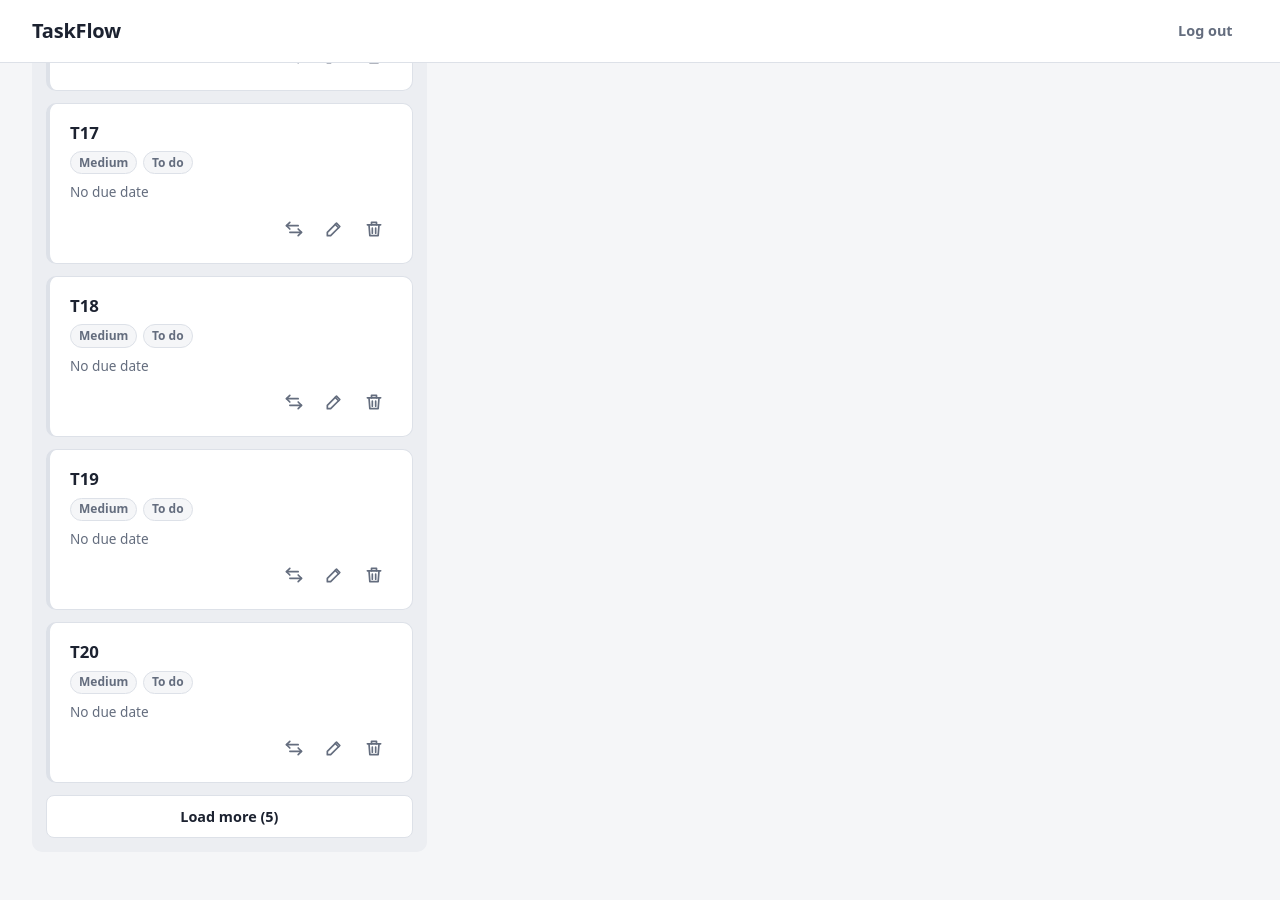
Test: TasksPage › offers Load more only while a column has more tasks
(page scrolled)
Expected: the heading "T20" is shown, [70,640,99,663]
Click the button "Load more (5)" at (229, 817), box [46,795,413,838]
(page scrolled)
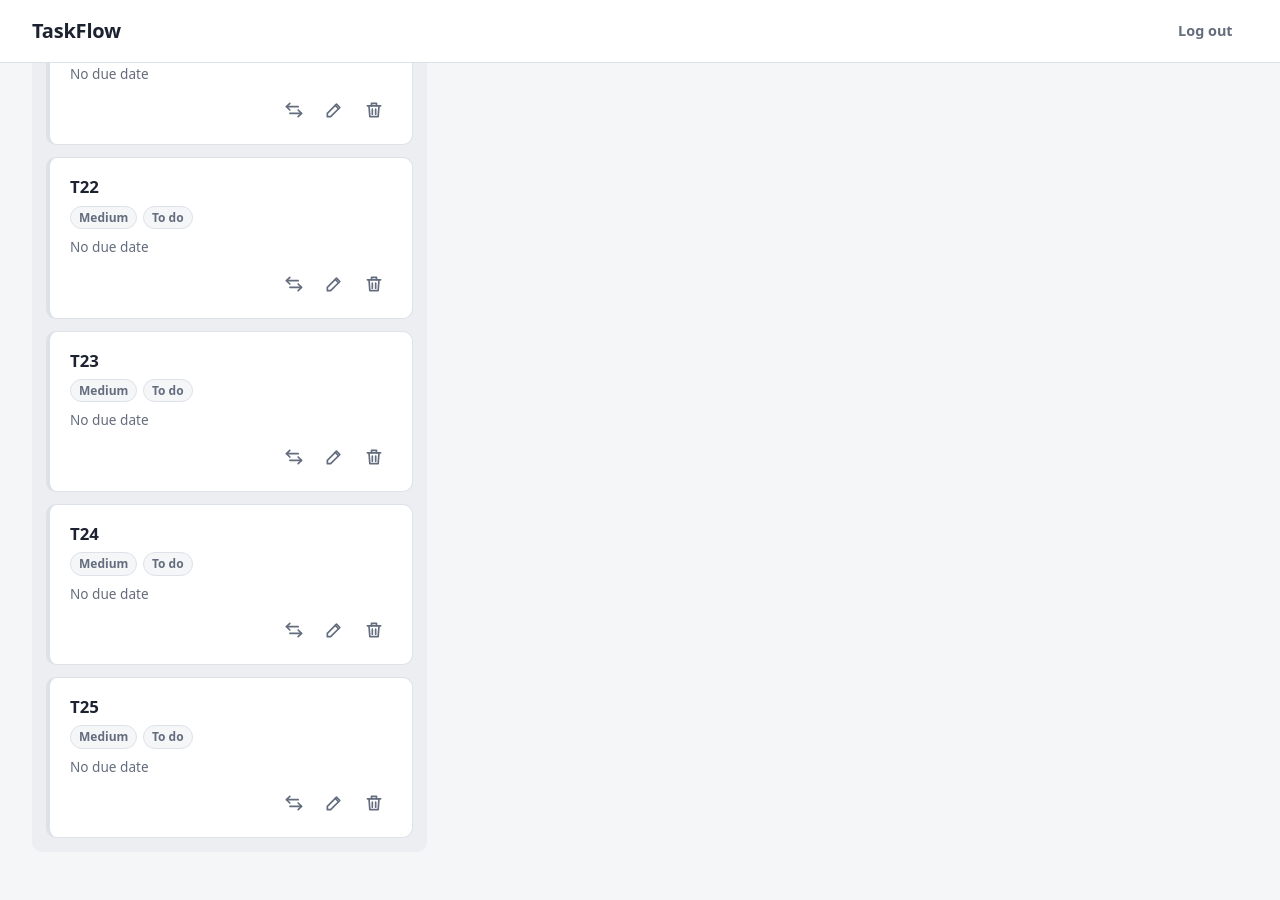
Now the heading "T25" is shown, box [70,695,99,718]
Now the button "Load more" is gone
